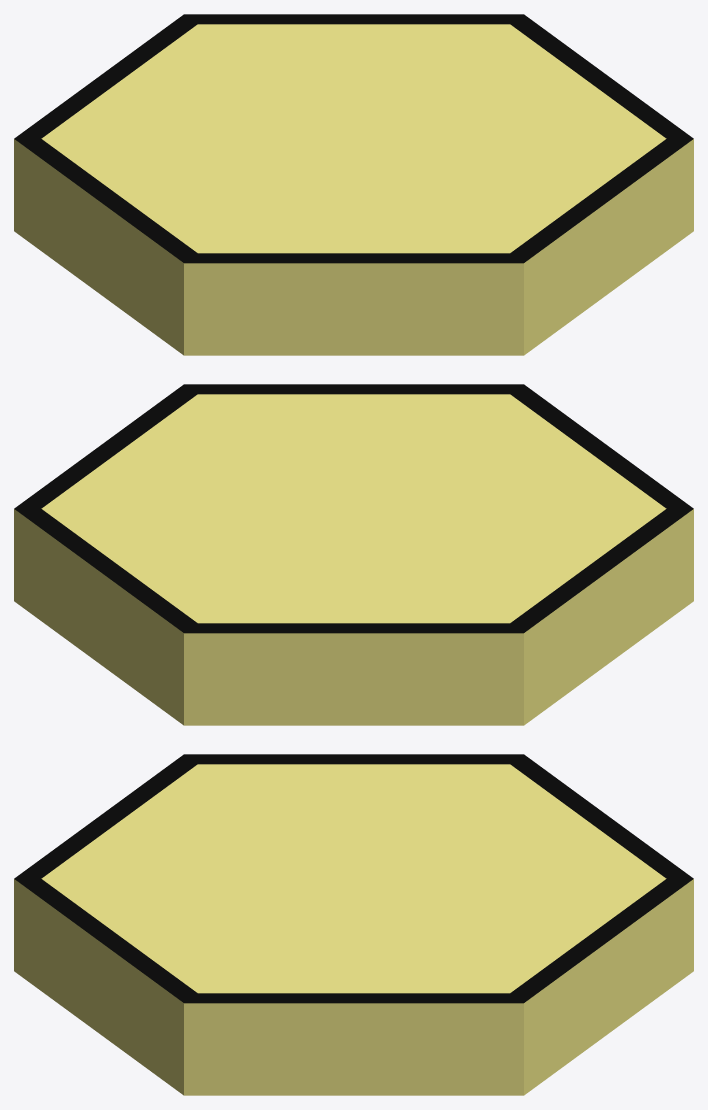
The model's file is 1tile.glb.
The picture shows the model from 3 angles, top to bottom: view 1: azimuth 30°, elevation 25°; view 2: azimuth 150°, elevation 25°; view 3: azimuth 270°, elevation 25°; orthographic projection.
Parts seen in each view (by area): view 1: PalmTile-col; view 2: PalmTile-col; view 3: PalmTile-col.
Boxes of the visible parts, x1,y1,x2,y2 form: PalmTile-col: [14, 14, 693, 355]; PalmTile-col: [14, 384, 693, 725]; PalmTile-col: [14, 754, 693, 1095].
Bounding box in the file's own units: 1.73 × 0.3 × 2.
2 materials, 2 textured.
